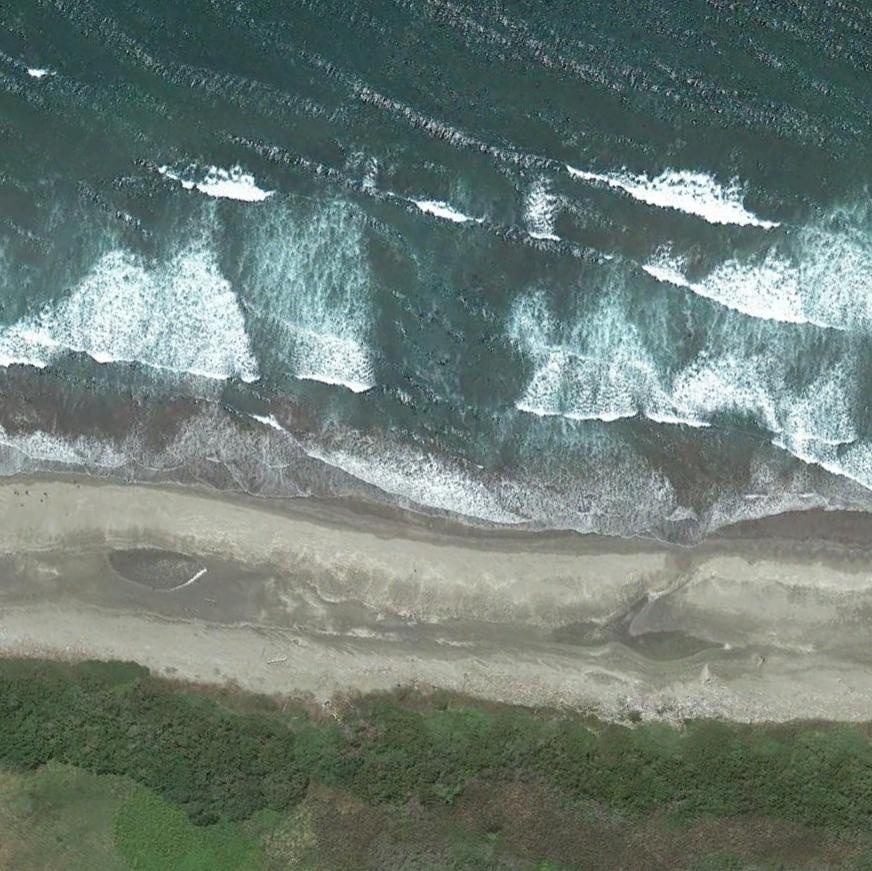rip_current: (300, 126, 563, 461)
